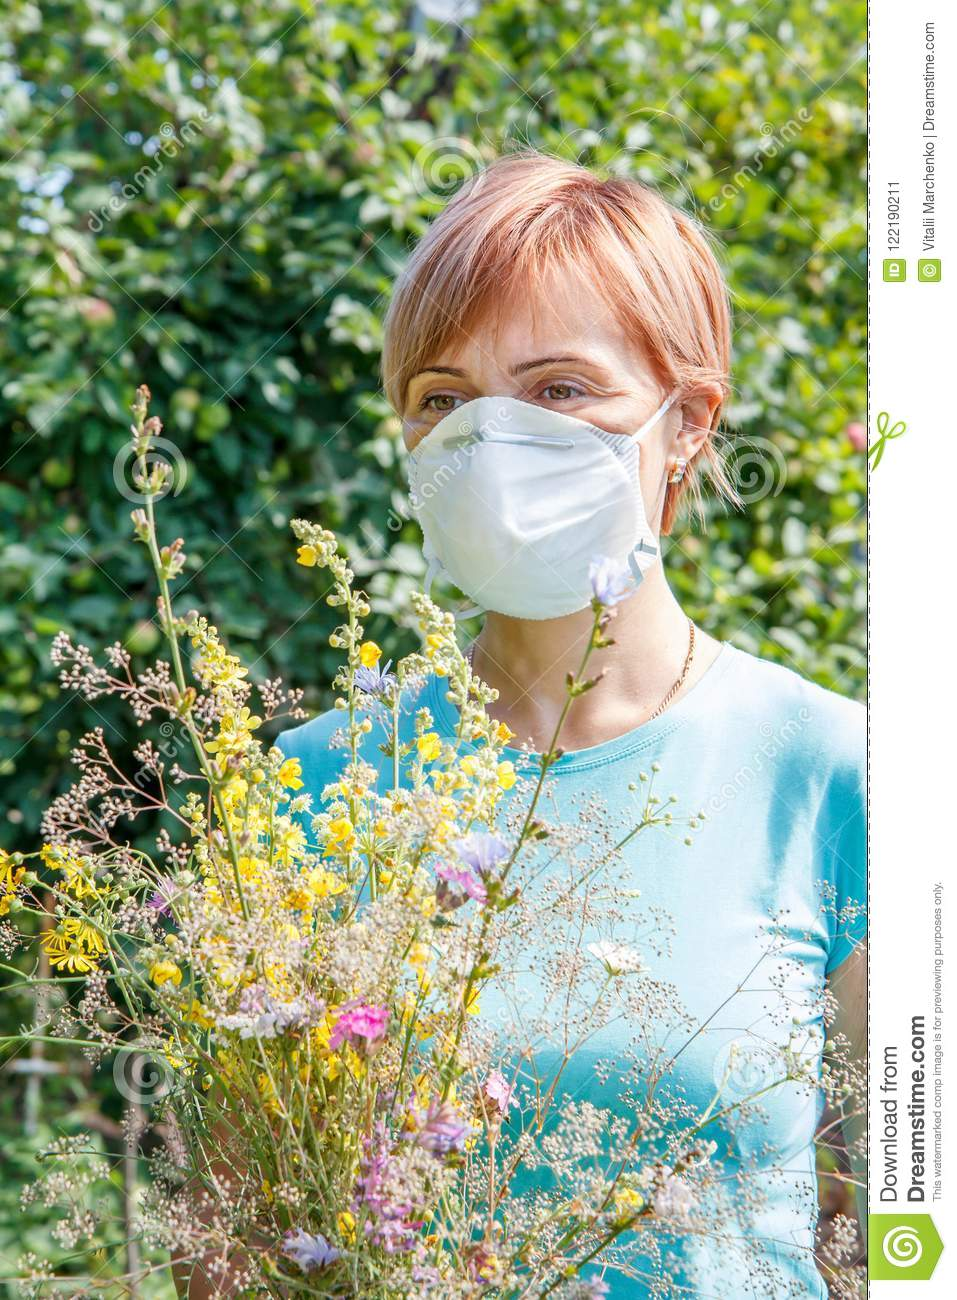mask: (408, 400, 654, 624)
